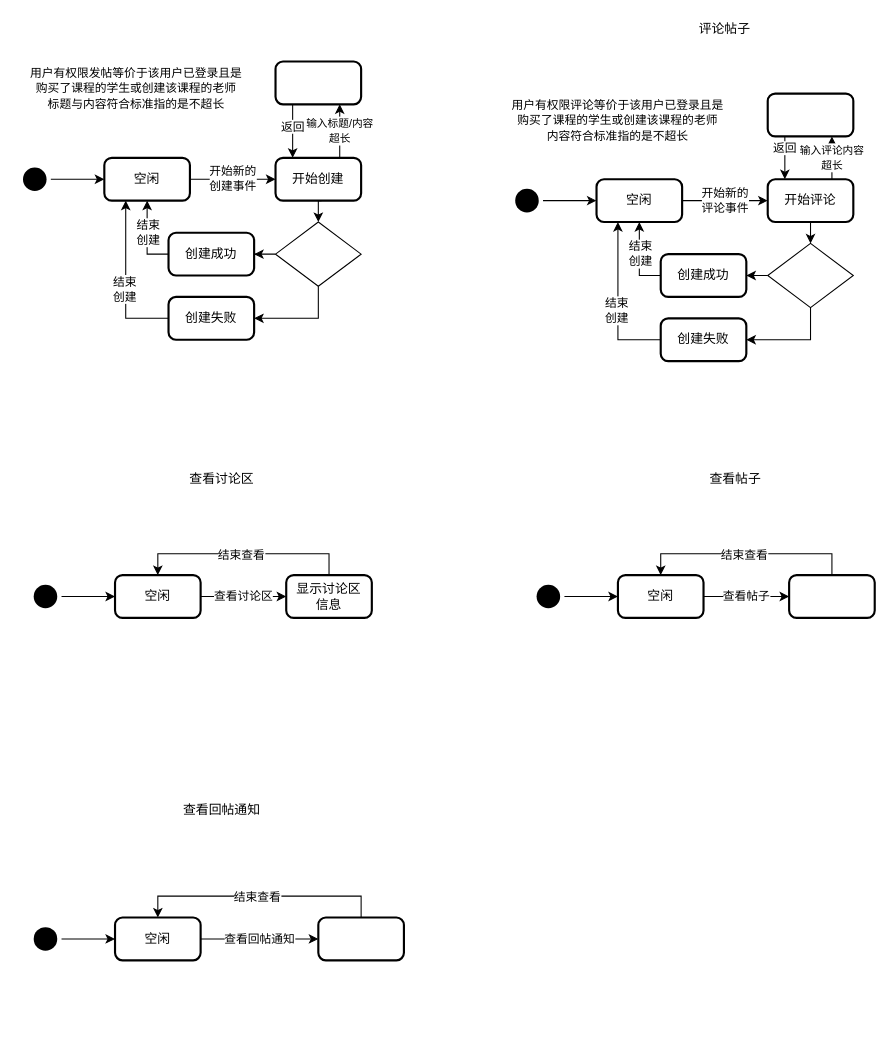
Image size: 893x1042. Some labels were removed from this diagram. Each missing label, with the centre of its shape:
"提示失败" goes at (810,114).
"显示回帖信息" goes at (360,938).
"显示帖子 信息" goes at (831,596).
"输入标题与内容 符合标准且用户有权限发帖" goes at (317,253).
"输入标题与内容 符合标准且用户有权限发评论" goes at (810,275).
"错误提示" goes at (318,82).
